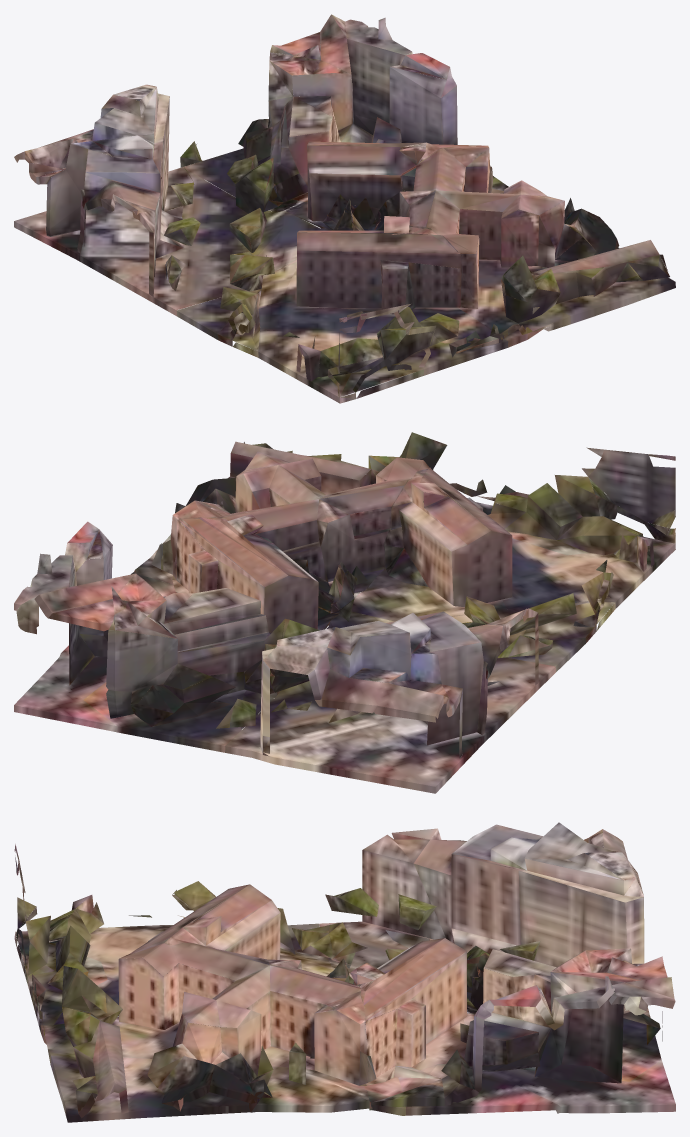
3 renders of one model, top to bottom at view 1: azimuth 30°, elevation 25°; view 2: azimuth 150°, elevation 25°; view 3: azimuth 270°, elevation 25°, orthographic. The views are drawn at different scales.
Parts seen in each view (by area): view 1: Mesh_0; view 2: Mesh_0; view 3: Mesh_0.
Part boxes in pixels (left/top/right/bottom): Mesh_0: left=14, top=14, right=675, bottom=403; Mesh_0: left=14, top=432, right=675, bottom=793; Mesh_0: left=14, top=822, right=675, bottom=1122.
Size of the model in its own units: 133 by 38.53 by 165.
Materials: 2 (2 with a texture image).
